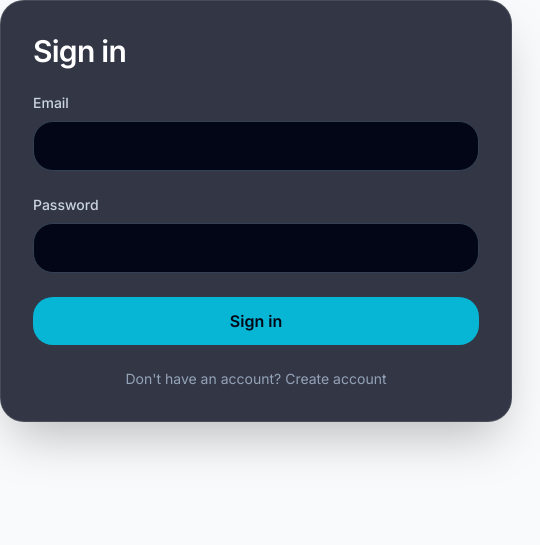
LoginForm › displays error message on login failure
Type "test@example.com" into the field labelled "Email" at (256, 146), box 33,121 -> 479,171
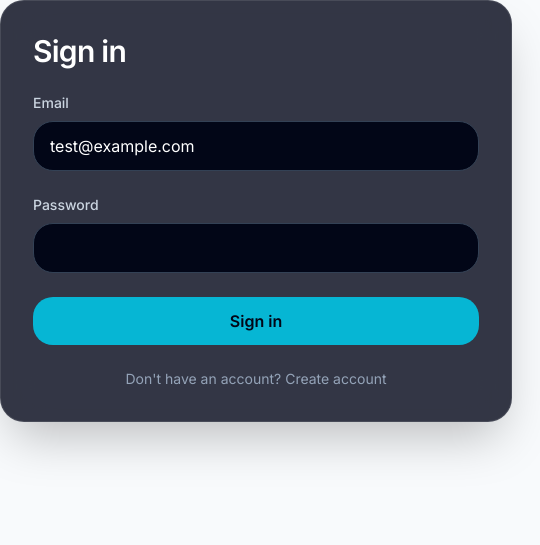
Type "password123" into the password field labelled "Password" at (256, 248), box 33,223 -> 479,273
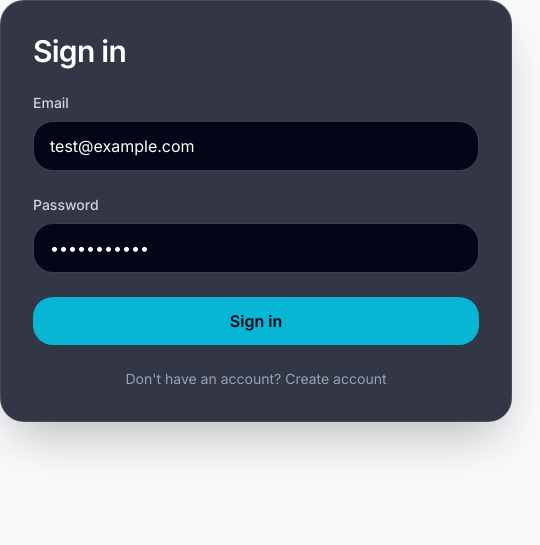
Click the button "Sign in" at (256, 321), box 33,297 -> 479,345
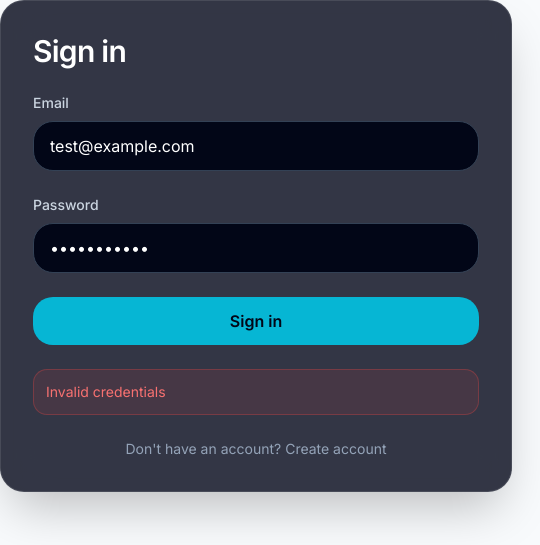
expect the text "Invalid credentials" is shown: met, box 46,383 -> 166,400
